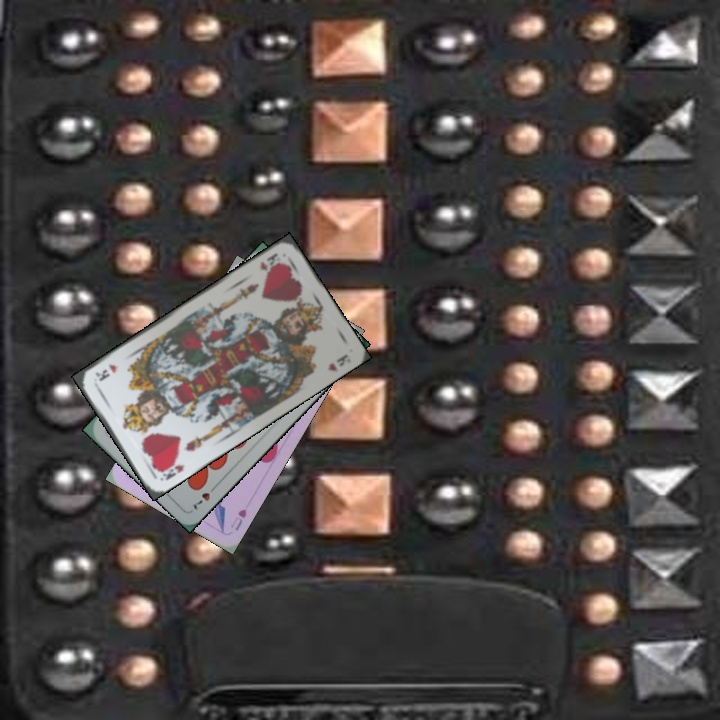H7: (189, 480, 220, 513)
HK: (154, 457, 187, 483), (256, 249, 286, 275)
HU: (226, 504, 249, 534)
